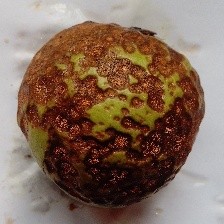guava: (9, 10, 203, 186)
